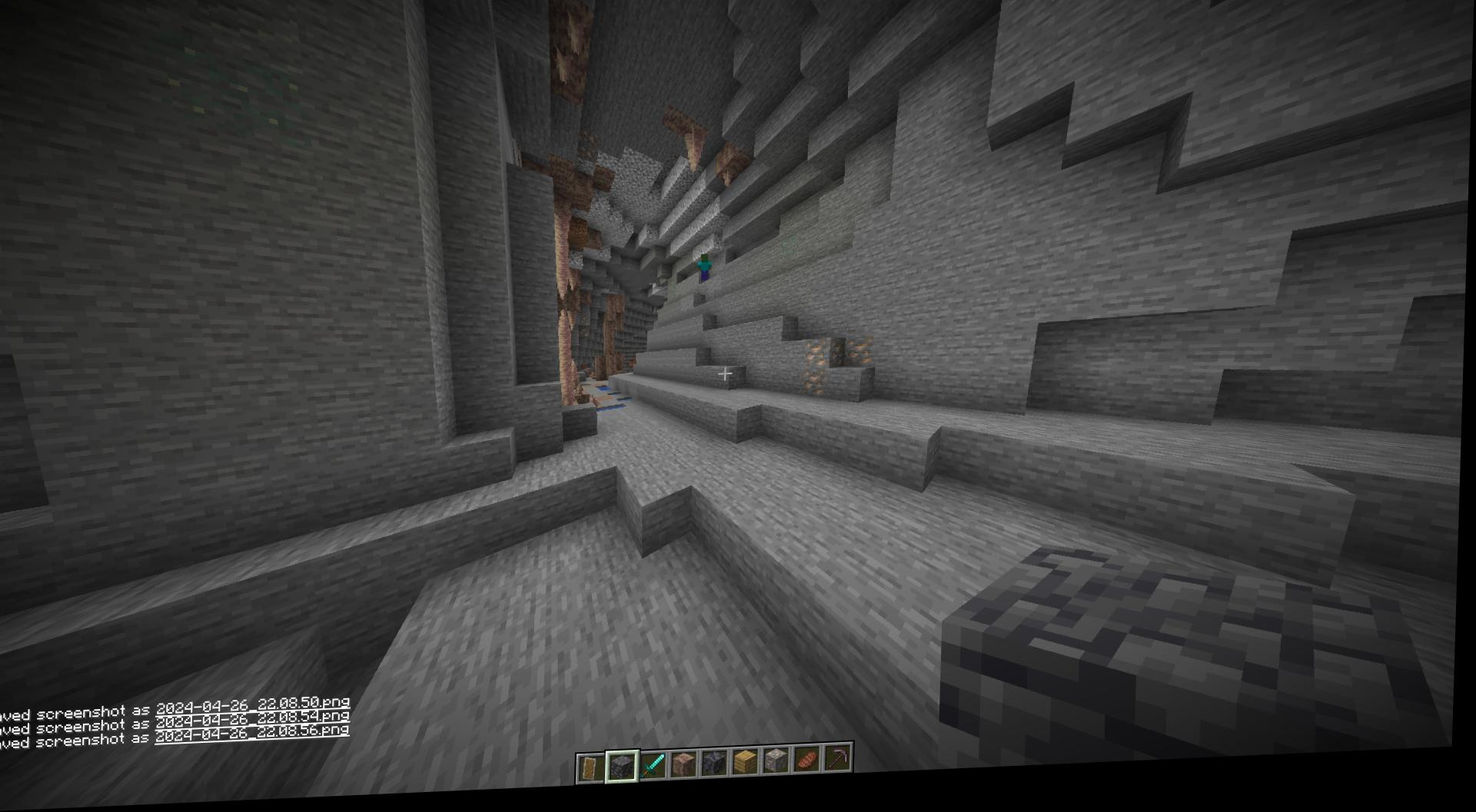iron ore: (805, 344, 849, 379), (572, 133, 606, 168), (801, 373, 837, 406), (841, 339, 878, 371)
